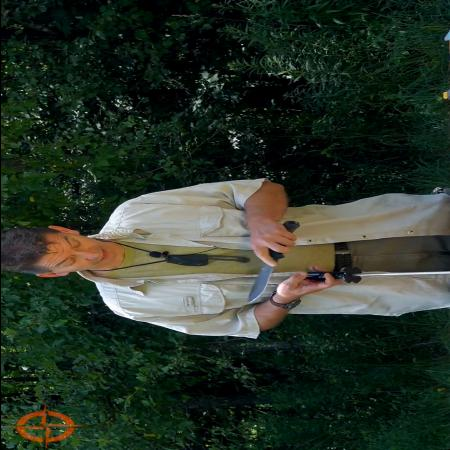long weapon: (242, 218, 302, 304)
